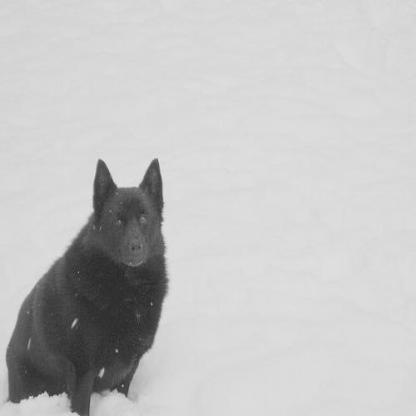schipperke: (6, 156, 166, 414)
